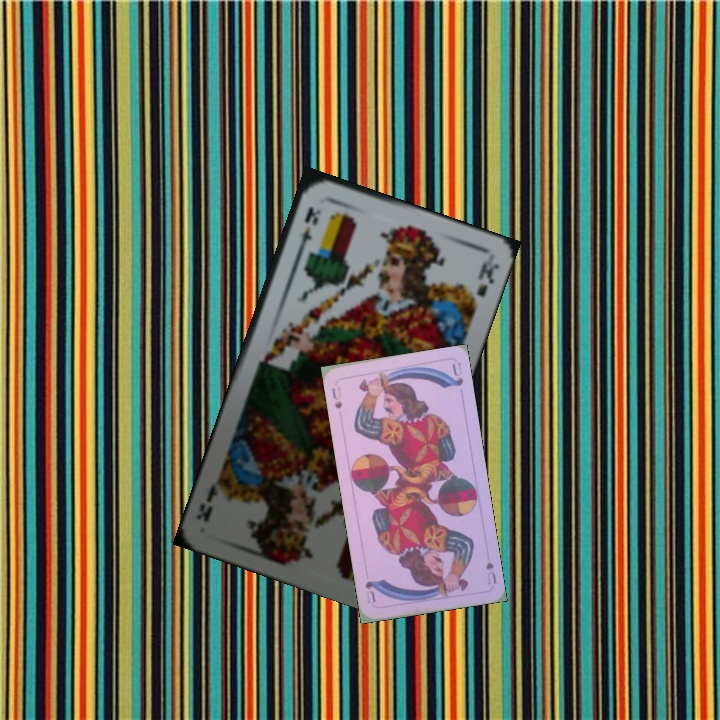EK: (294, 202, 324, 254)
SU: (482, 558, 499, 587), (328, 383, 345, 411)
